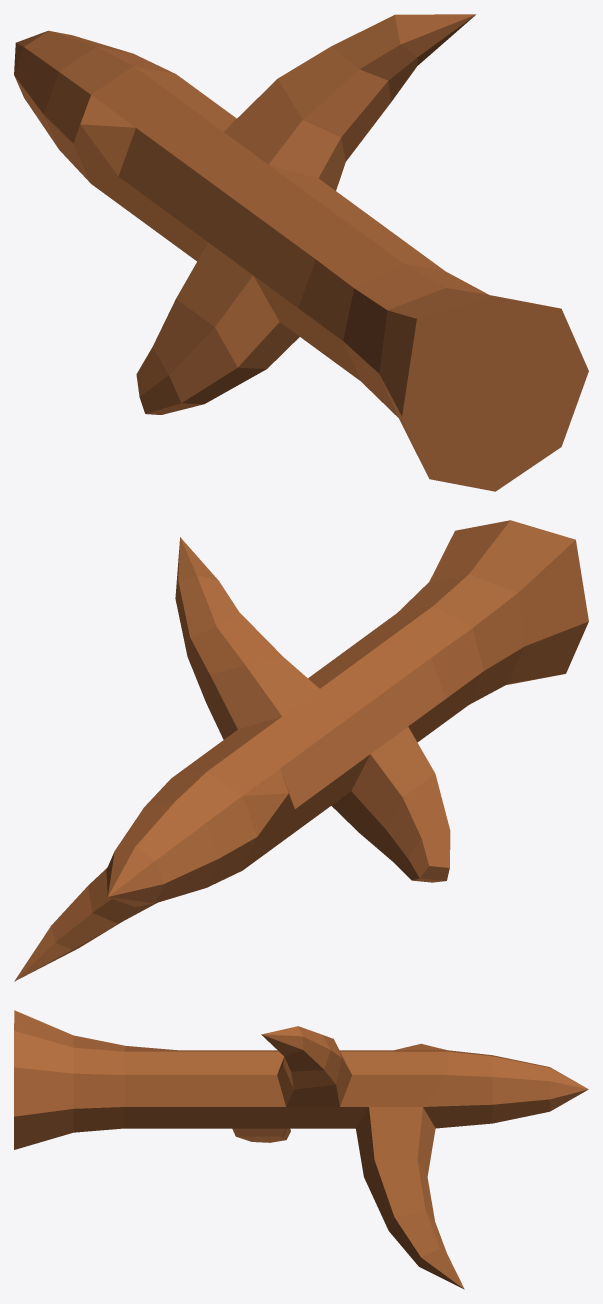
Rendered from tronco003.fbx.
3 views of the same model, one above another, from view 1: azimuth 30°, elevation 25°; view 2: azimuth 150°, elevation 25°; view 3: azimuth 270°, elevation 25° (orthographic). The views are drawn at different scales.
Parts seen in each view (by area): view 1: Cylinder; view 2: Cylinder; view 3: Cylinder.
Boxes of the visible parts, box(x1,y1,x2,y2) form: Cylinder: box(14, 14, 588, 491); Cylinder: box(14, 520, 588, 981); Cylinder: box(14, 1010, 588, 1289).
Bounding box in the file's own units: 297 × 327 × 690.
